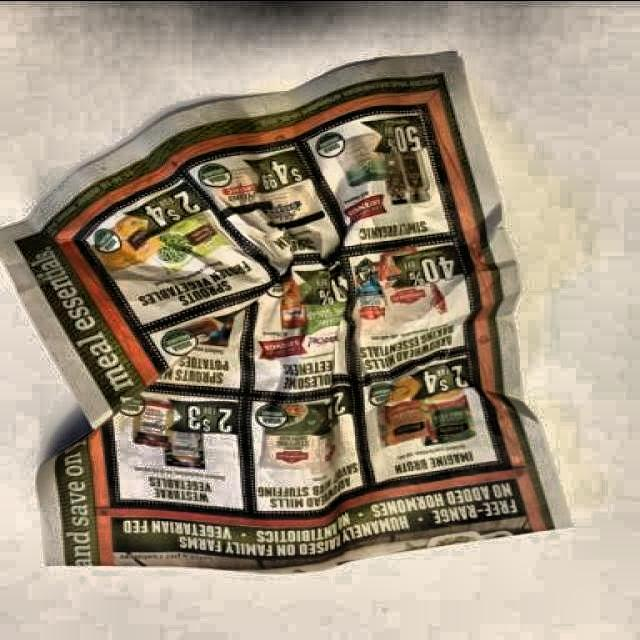cardboard: (0, 52, 574, 575)
